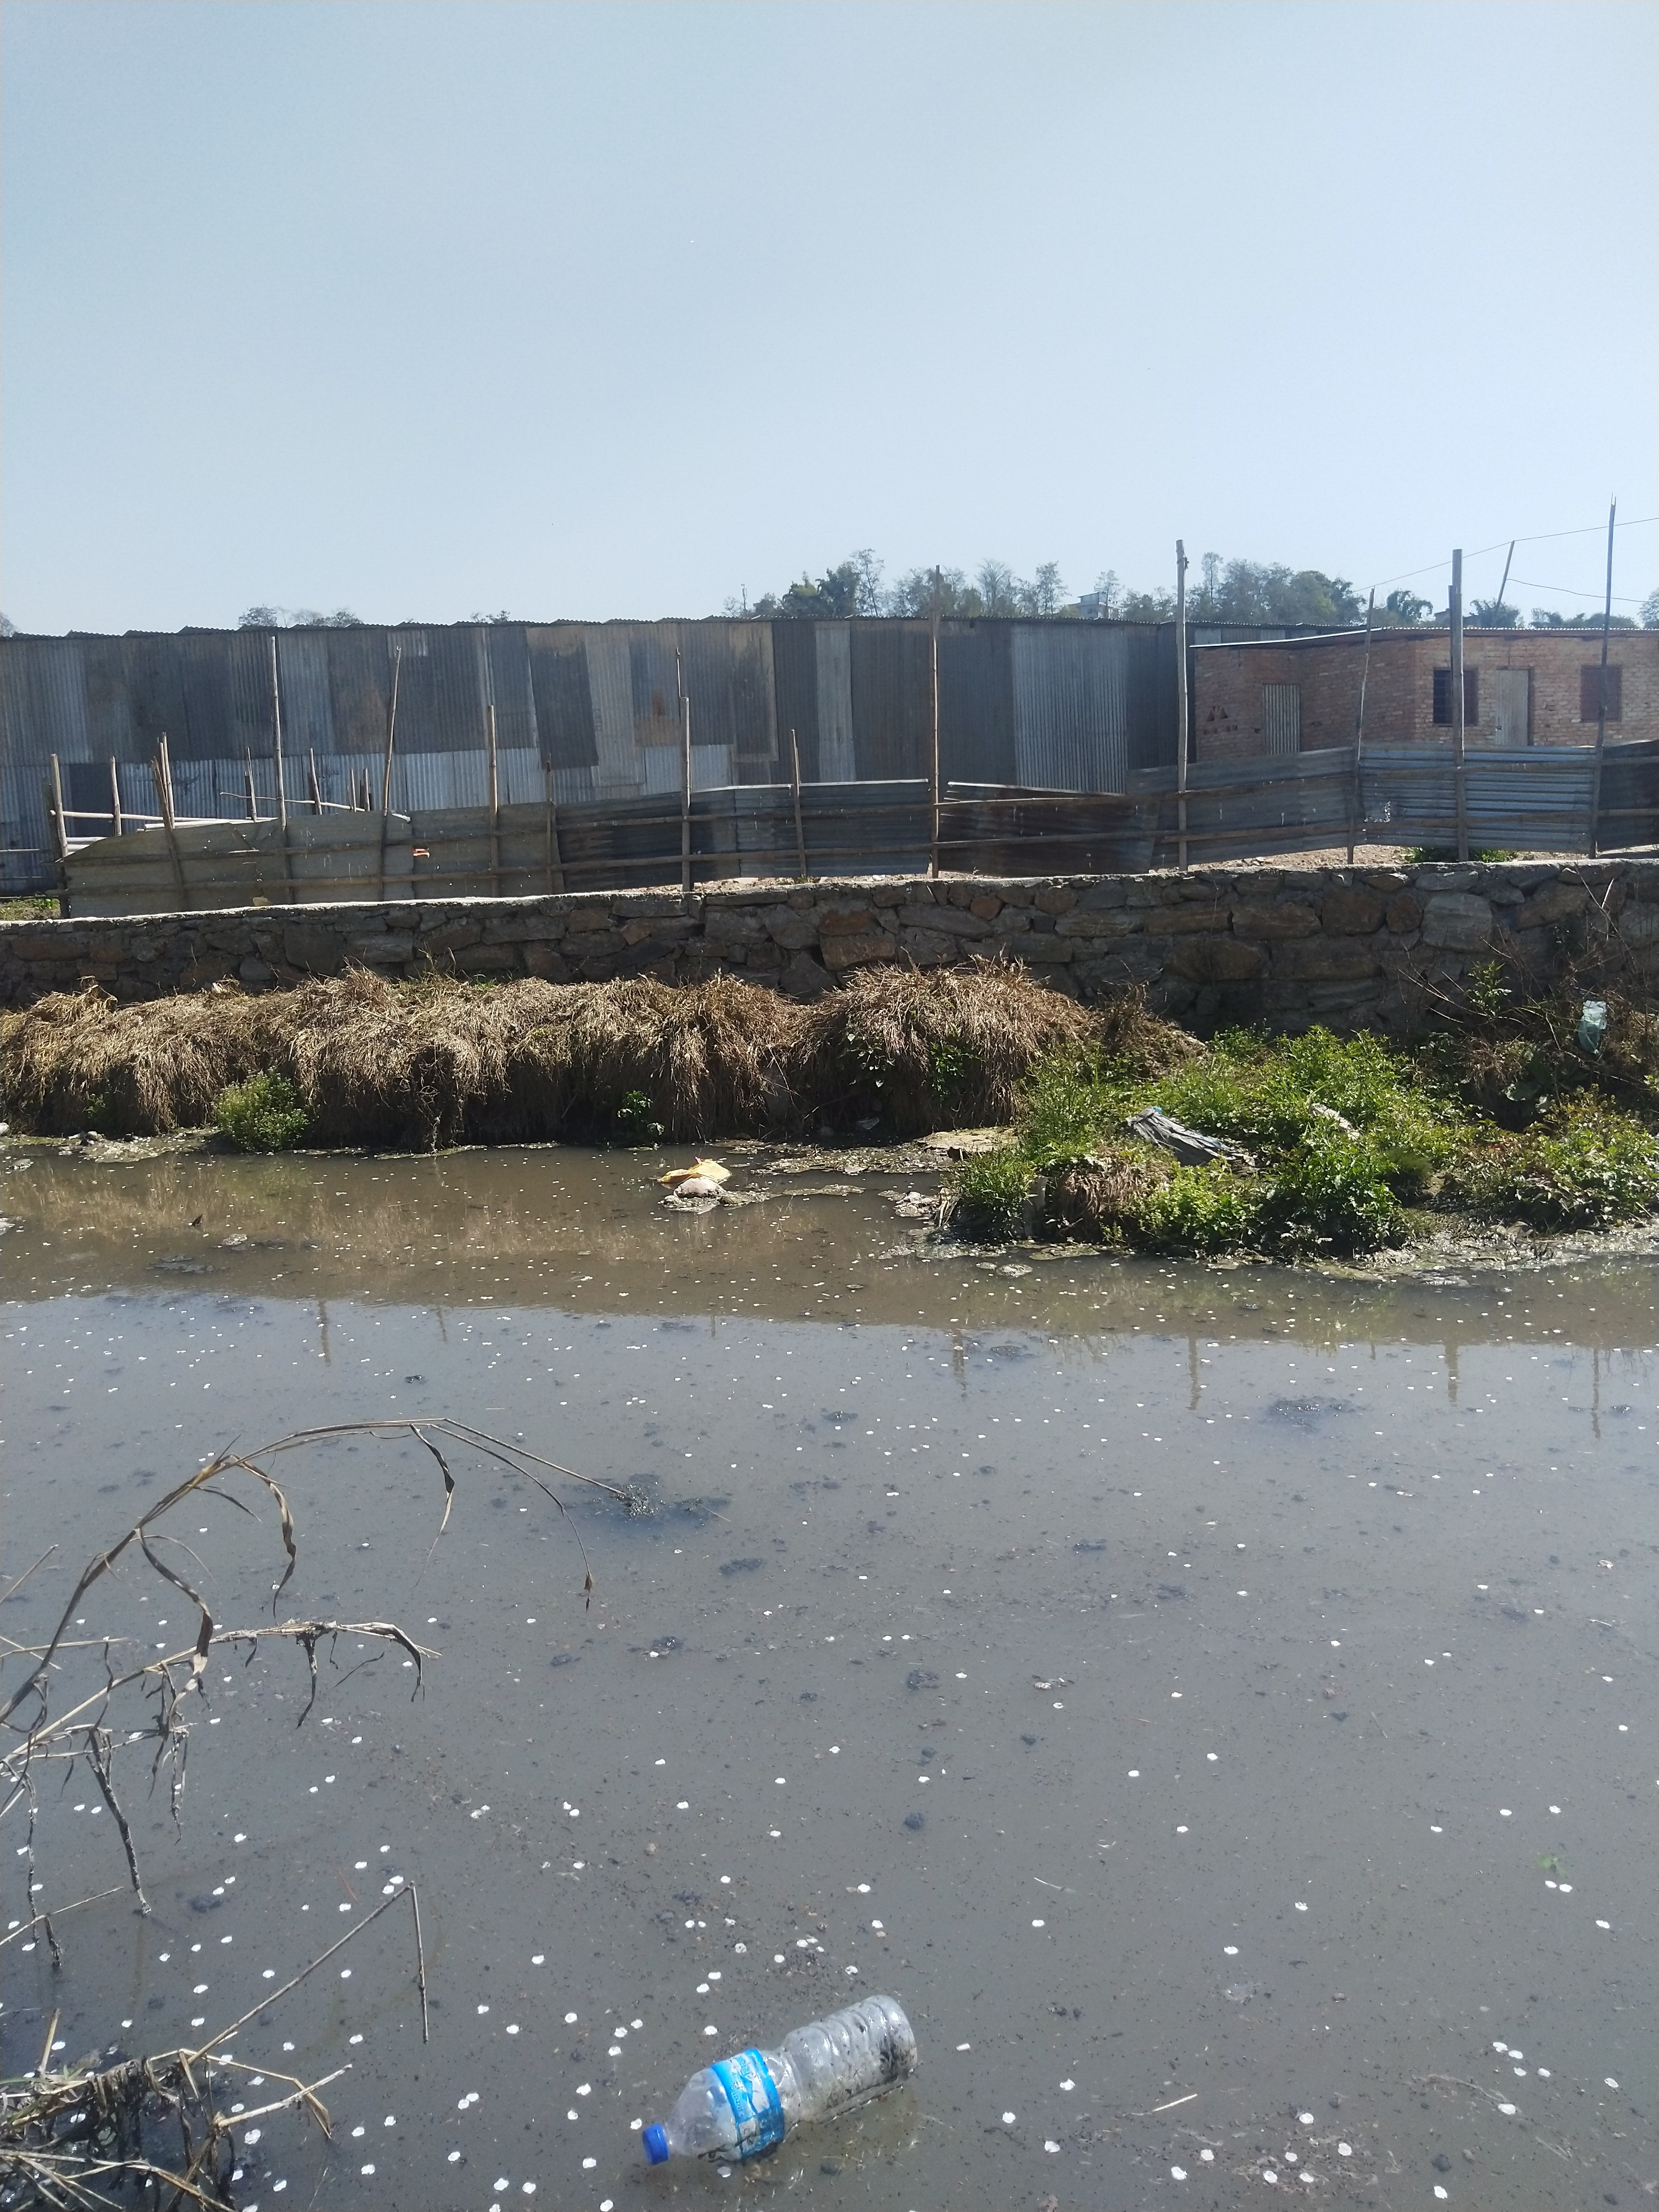Plastic Bottle: (641, 1994, 918, 2167)
